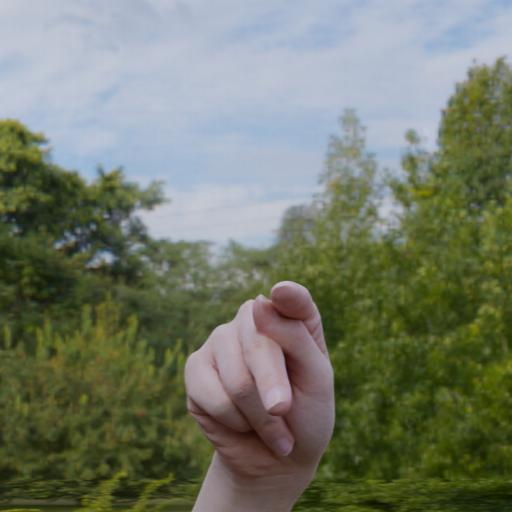P: (161, 264, 355, 510)
